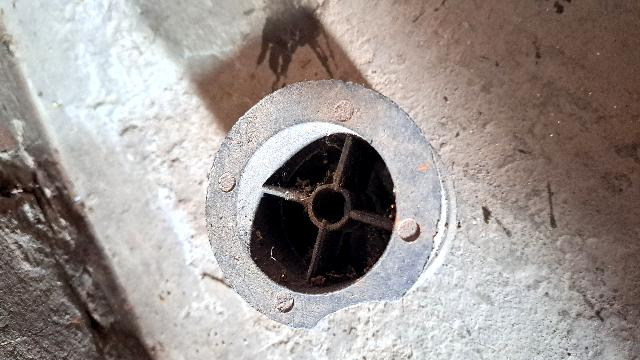hardplastic: (206, 78, 462, 342)
